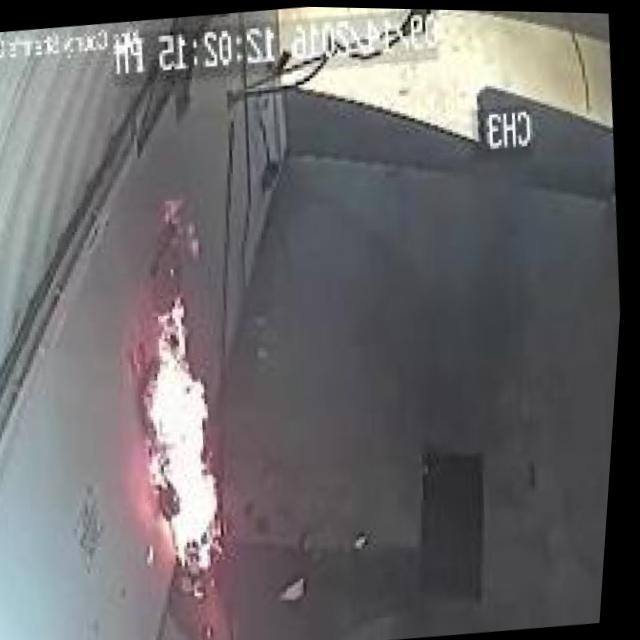fire: (113, 273, 257, 582)
